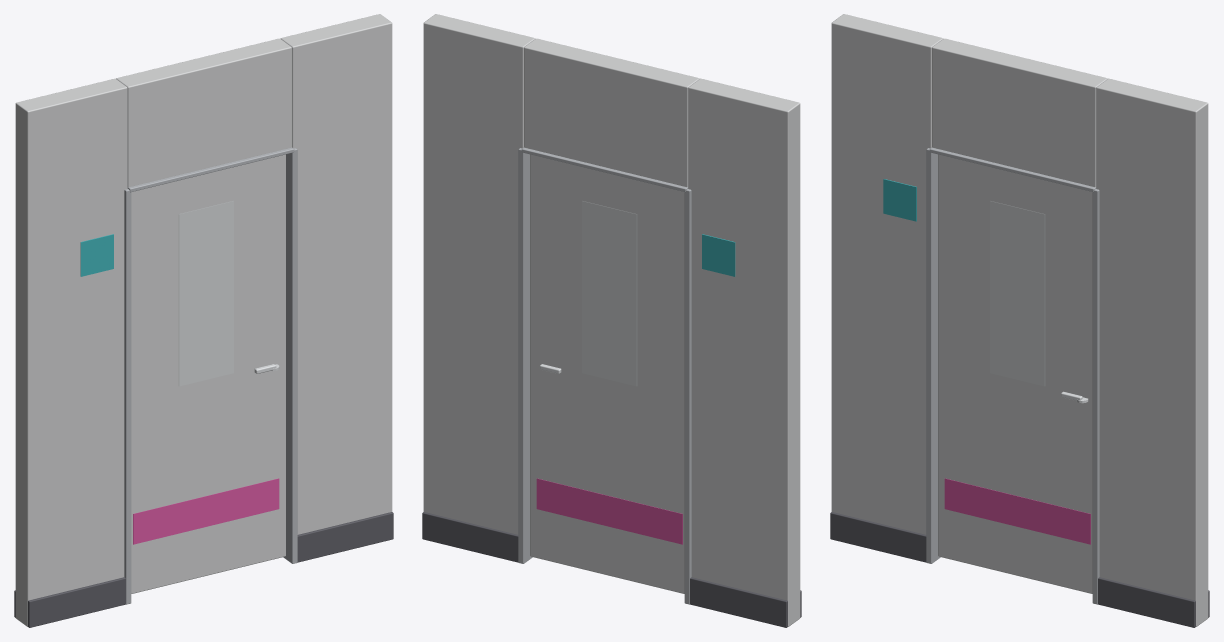
Rendered from tattoo-and-piercing-studio-studio-door-module-1b7645dd__34560.glb.
3 views of the same model, side by side, from view 1: azimuth 30°, elevation 25°; view 2: azimuth 150°, elevation 25°; view 3: azimuth 330°, elevation 25° (orthographic).
Visible parts, largest first — view 1: studio-door-module, door-studio/white, door-studio/glass, door-studio/magenta; view 2: studio-door-module, door-studio/white, door-studio/glass, door-studio/magenta; view 3: studio-door-module, door-studio/white, door-studio/glass, door-studio/magenta.
Part boxes in pixels (box(x1,y1,x2,y2)): studio-door-module: box(14, 14, 393, 627); door-studio/white: box(131, 154, 285, 593); door-studio/glass: box(179, 201, 233, 385); door-studio/magenta: box(133, 478, 279, 544); studio-door-module: box(422, 14, 801, 627); door-studio/white: box(530, 154, 684, 593); door-studio/glass: box(582, 201, 636, 385); door-studio/magenta: box(536, 478, 682, 544); studio-door-module: box(830, 14, 1209, 627); door-studio/white: box(938, 154, 1092, 593); door-studio/glass: box(990, 201, 1044, 385); door-studio/magenta: box(944, 478, 1090, 544).
Bounding box in the file's own units: 2 × 2.7 × 0.1581.
